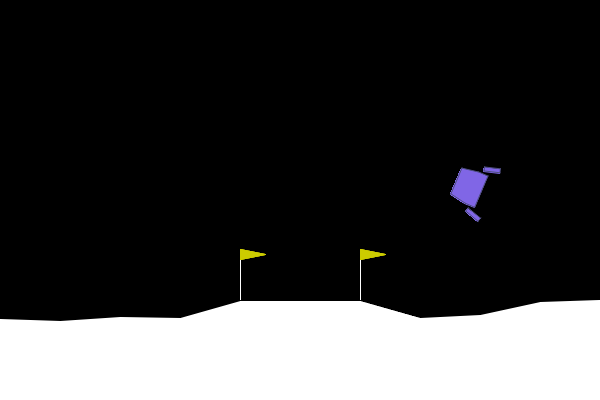lander: (442, 153, 503, 224)
